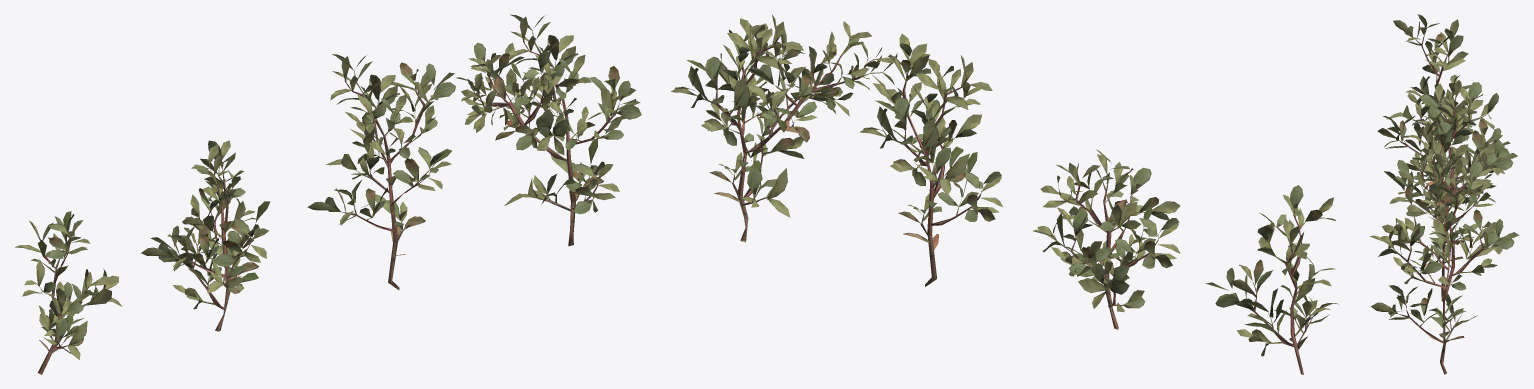
The model's file is pv_shrub_b.glb.
3 renders of one model, left to right at view 1: azimuth 30°, elevation 25°; view 2: azimuth 150°, elevation 25°; view 3: azimuth 270°, elevation 25°, orthographic. The views are drawn at different scales.
Visible parts, largest first — view 1: pv_shrub_b; view 2: pv_shrub_b; view 3: pv_shrub_b.
Boxes of the visible parts, bbox=[...] form: pv_shrub_b: bbox=[15, 14, 641, 374]; pv_shrub_b: bbox=[671, 14, 1338, 374]; pv_shrub_b: bbox=[1370, 14, 1519, 374].
Size of the model in its own units: 0.5832 by 0.2189 by 0.1457.
Materials: 1 (1 with a texture image).
